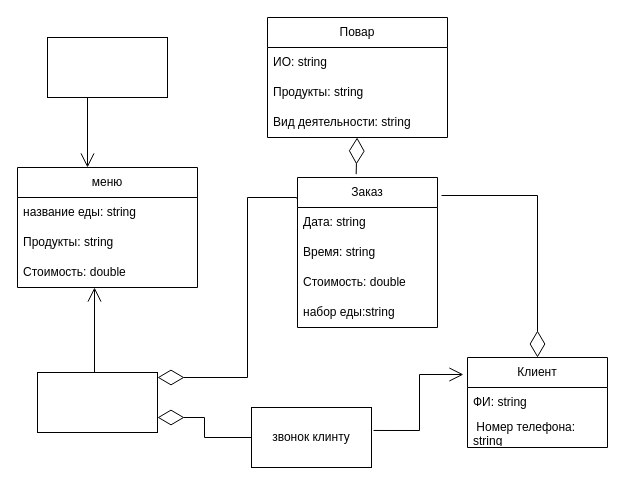
This 625x485 diagram has some shape labels left out. Each missing label, with the centre of its shape:
администратор: point 97,402
служба заказов еды: point 107,67
